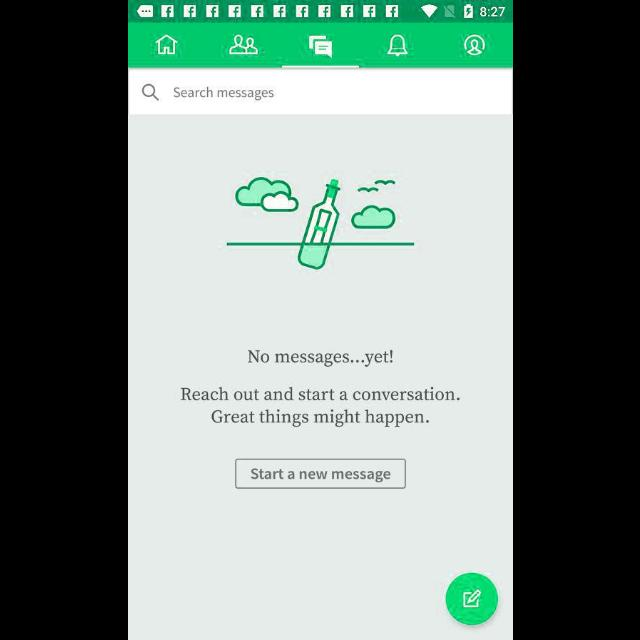icon: (444, 572, 498, 626), (228, 35, 258, 55), (308, 36, 332, 58), (154, 34, 178, 56), (387, 34, 408, 58), (463, 34, 485, 56), (142, 85, 158, 102)
image: (226, 176, 414, 270)
text: (179, 386, 459, 428), (247, 350, 393, 368), (172, 87, 274, 101)
textbutton: (234, 458, 406, 489)
uppertaskbar: (128, 1, 512, 23)
